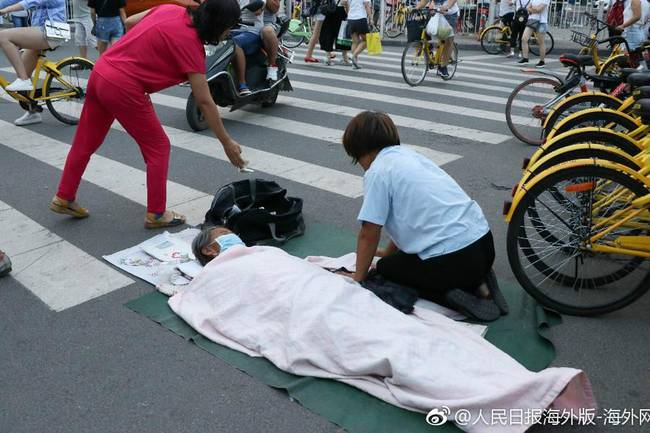10+: (1, 1, 650, 423)
down: (190, 226, 533, 399)
